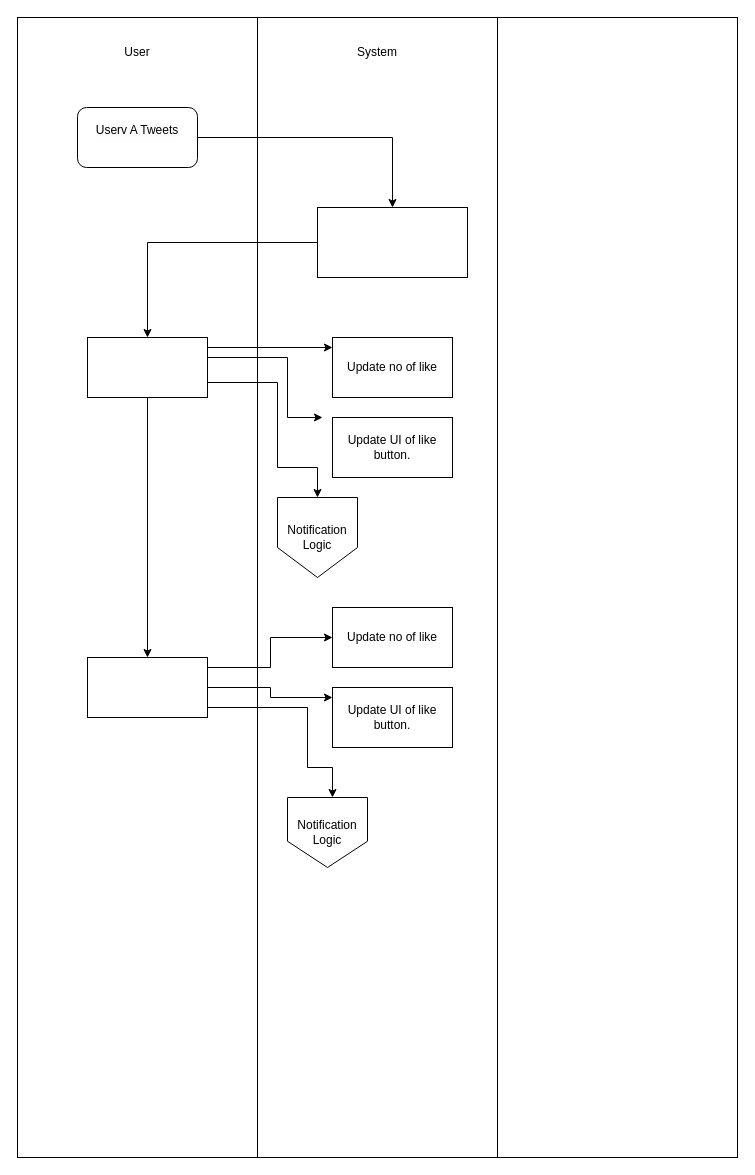
The diagram is 755 pixels wide and 1175 high, and some of its shapes have lost their labels. The shapes that lost their labels are listed below. From the top down, each one's box as (x1, y1, x2, y2) in pixels, then its label:
(316, 206, 468, 278): Tweet is broadcasted to the timeline of the followers
(86, 336, 208, 398): Userv B likes the Tweets
(496, 16, 738, 1158): Staff
(86, 656, 208, 718): Userv B unlikes the Tweets
